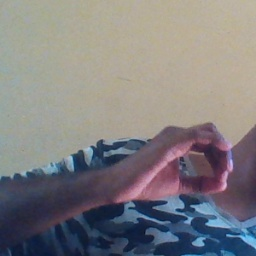O: (125, 115, 240, 210)
